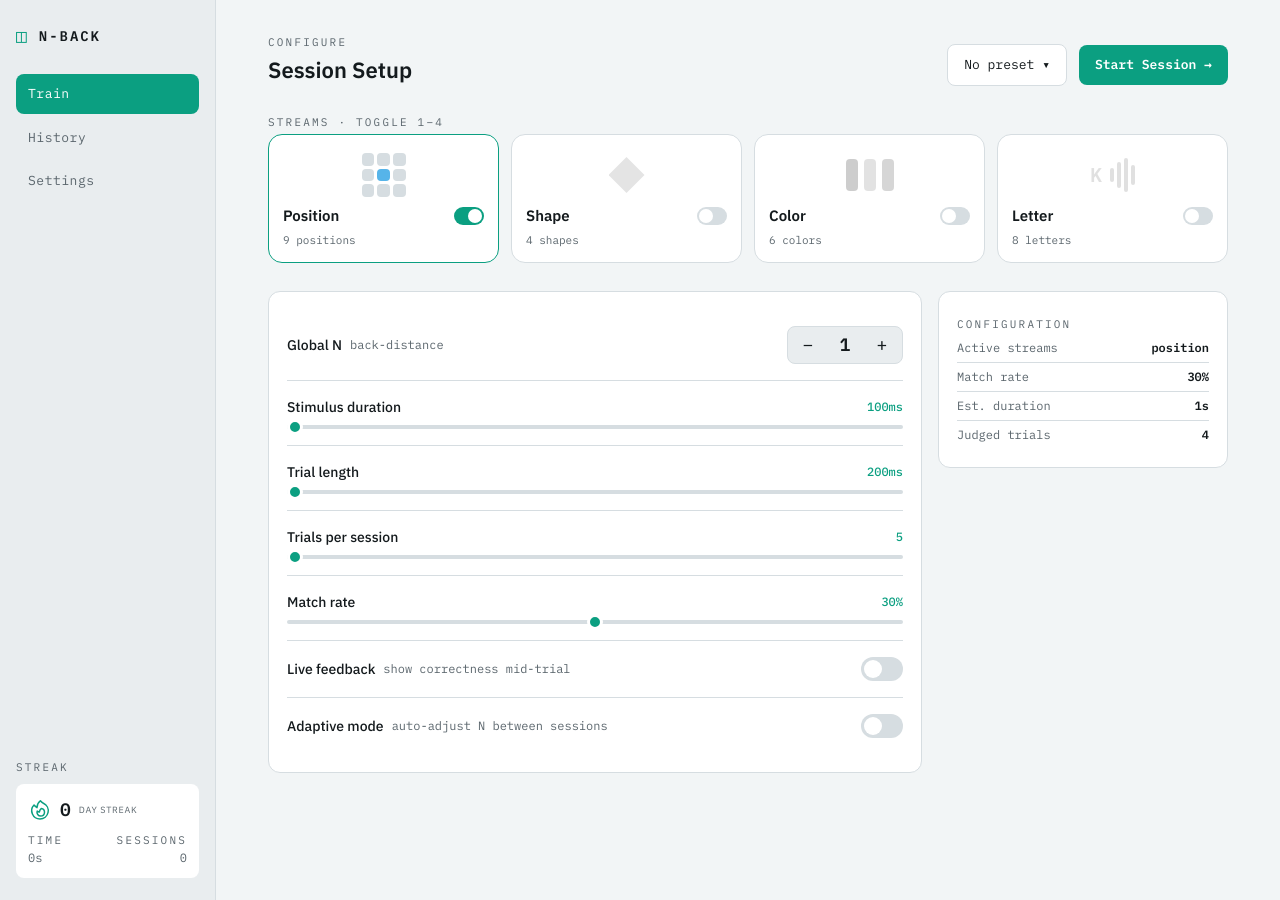
it: App shared draft config › keeps an edited training param in memory when navigating to Settings and back
The width and height of the screenshot is (1280, 900).
Step 1. Replace the text in the number field named "n-back level" with "5" → (845, 345), box [827,331,863,359]
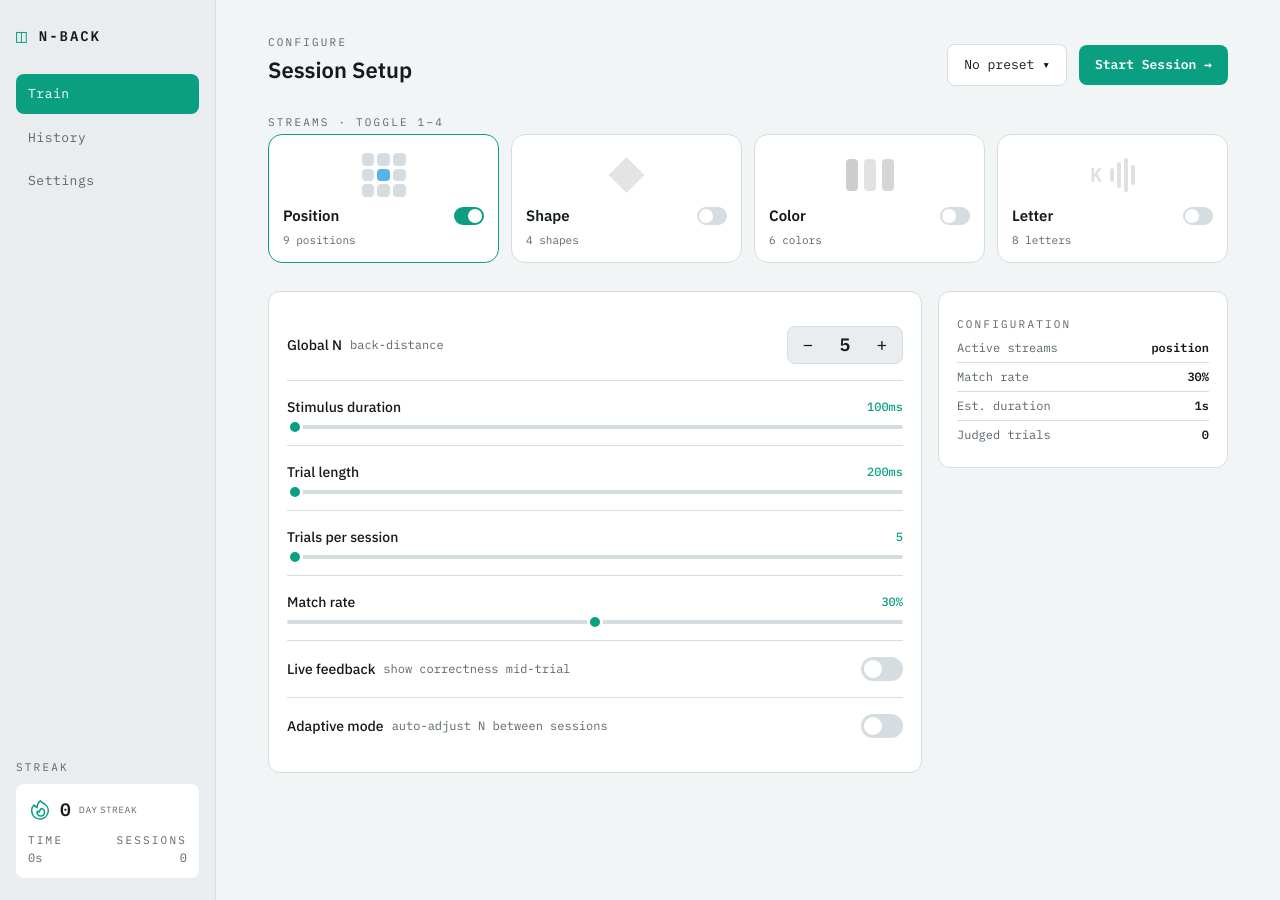
Step 2. Click the button "Settings" → (108, 181), box [16,161,199,200]
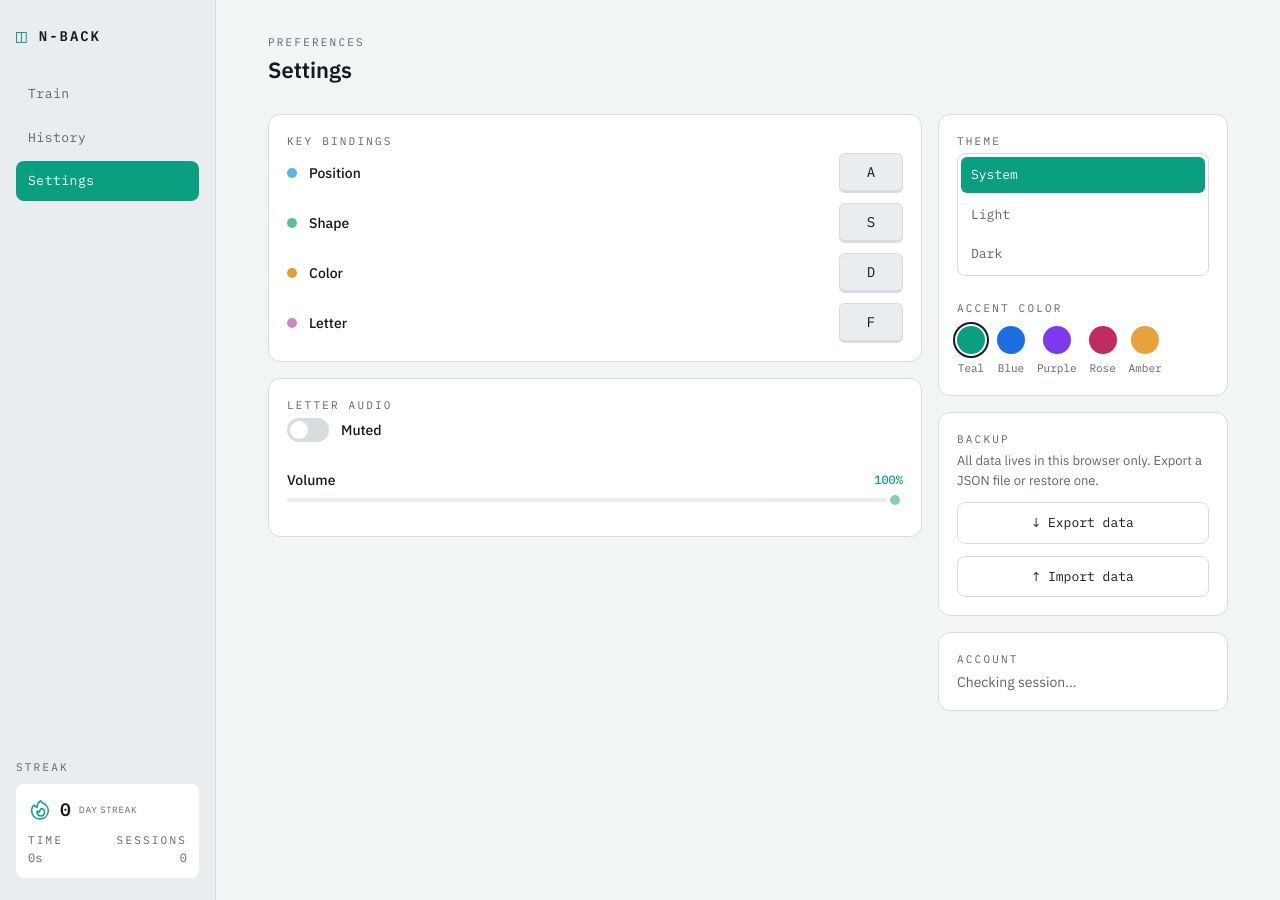
Step 3. Click the button "Train" → (108, 94), box [16,74,199,114]
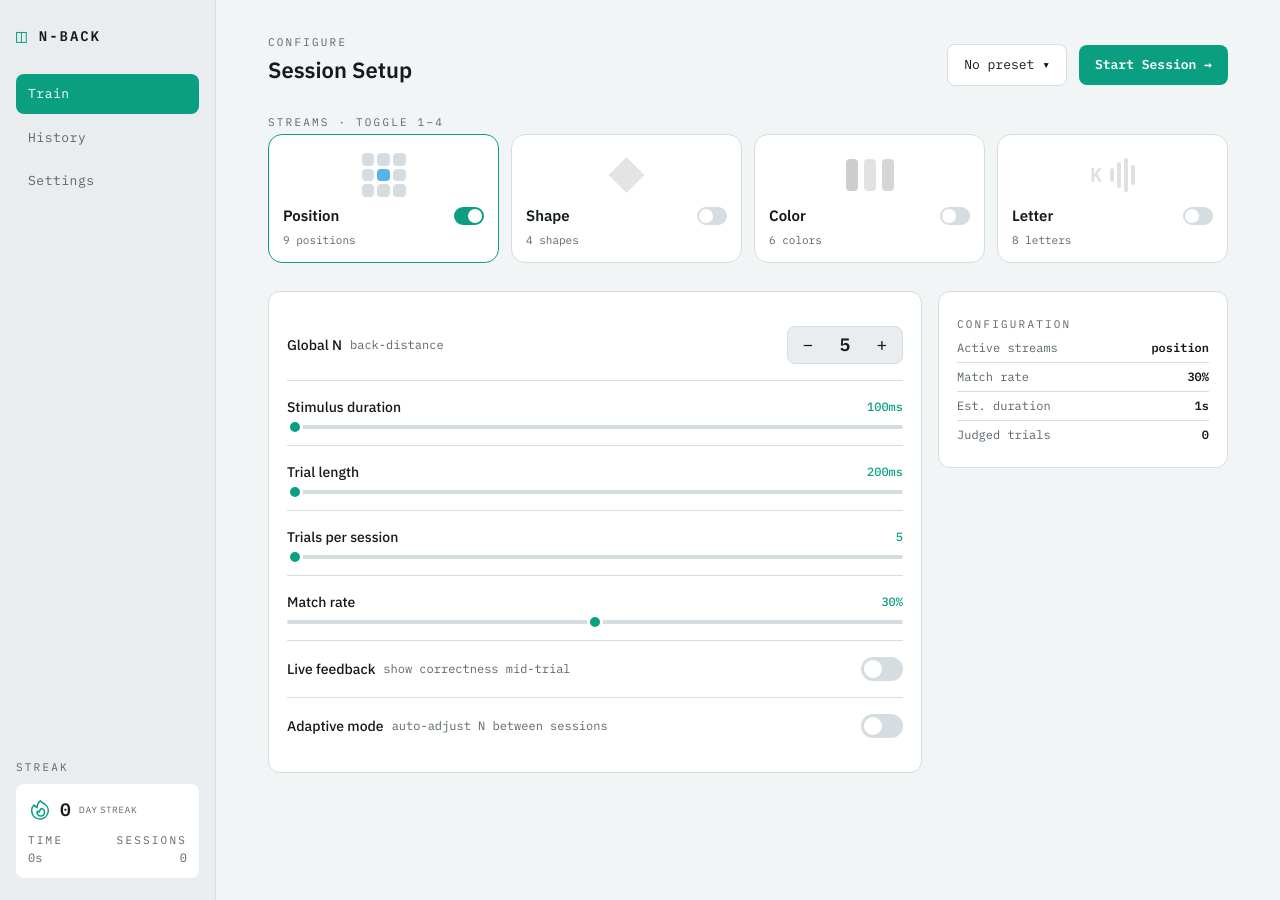
Now the number field named "n-back level" holds "5", box [827,331,863,359]
